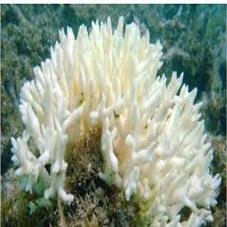bleached_corals: (10, 19, 222, 227)
